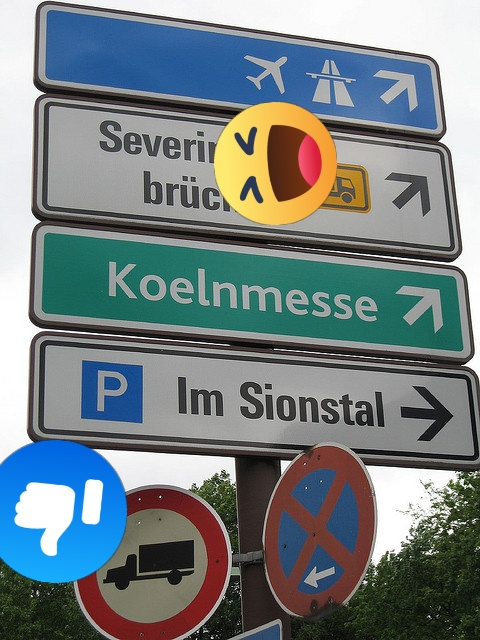haha: (214, 102, 337, 225)
like: (0, 440, 127, 583)
